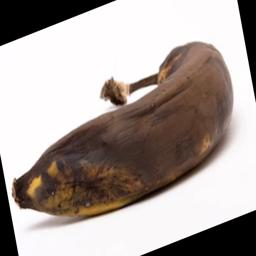Banana Rotten: (0, 23, 253, 247)
